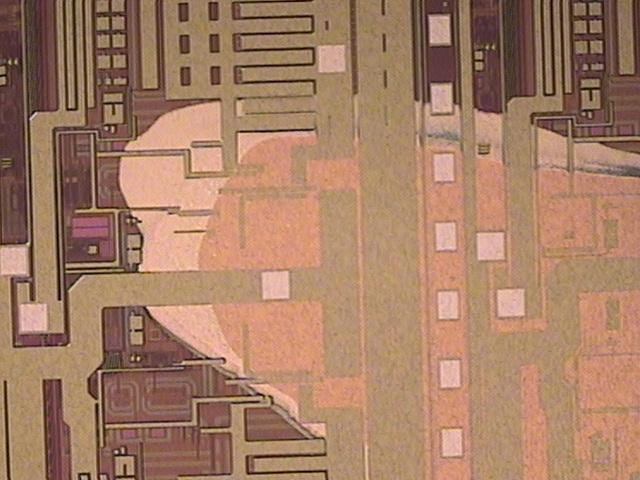COATING BAD: (111, 83, 640, 480)
